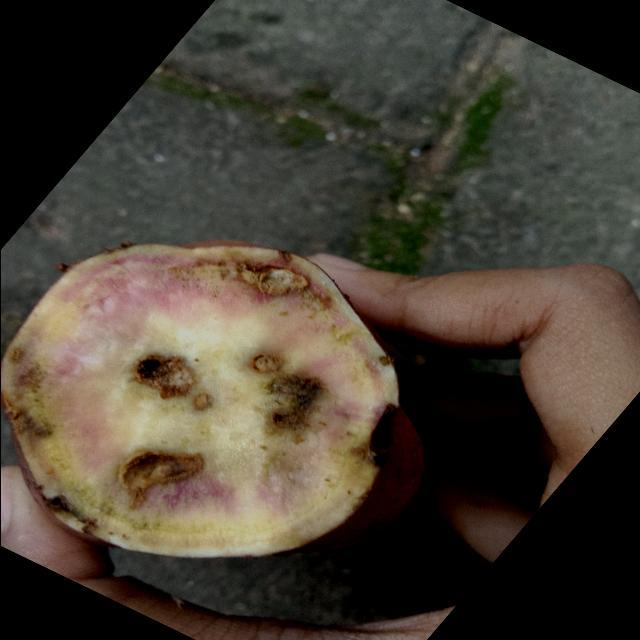Sick Sweet Potato_Tuber Rot: (2, 244, 422, 558)
